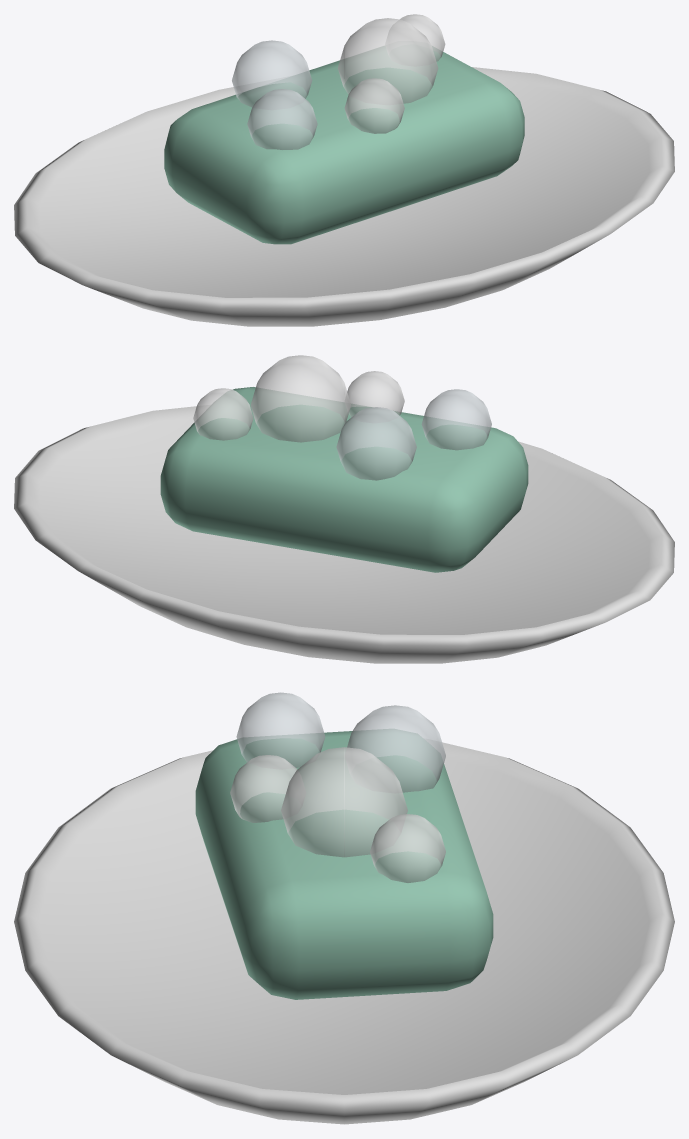
File: seifenstueck.glb
3 views of the same model, one above another, from view 1: azimuth 30°, elevation 25°; view 2: azimuth 150°, elevation 25°; view 3: azimuth 270°, elevation 25° (orthographic). The views are drawn at different scales.
Visible parts, largest first — view 1: seifenstueck-lack, seifenstueck-glas; view 2: seifenstueck-lack, seifenstueck-glas; view 3: seifenstueck-lack, seifenstueck-glas.
Part boxes in pixels (x1,y1,x2,y2): seifenstueck-lack: (14,46,674,326); seifenstueck-glas: (232,14,445,149); seifenstueck-lack: (14,387,674,663); seifenstueck-glas: (193,355,491,480); seifenstueck-lack: (14,729,674,1124); seifenstueck-glas: (230,692,445,882).
Bounding box in the file's own units: 0.702 × 0.22 × 0.52.
